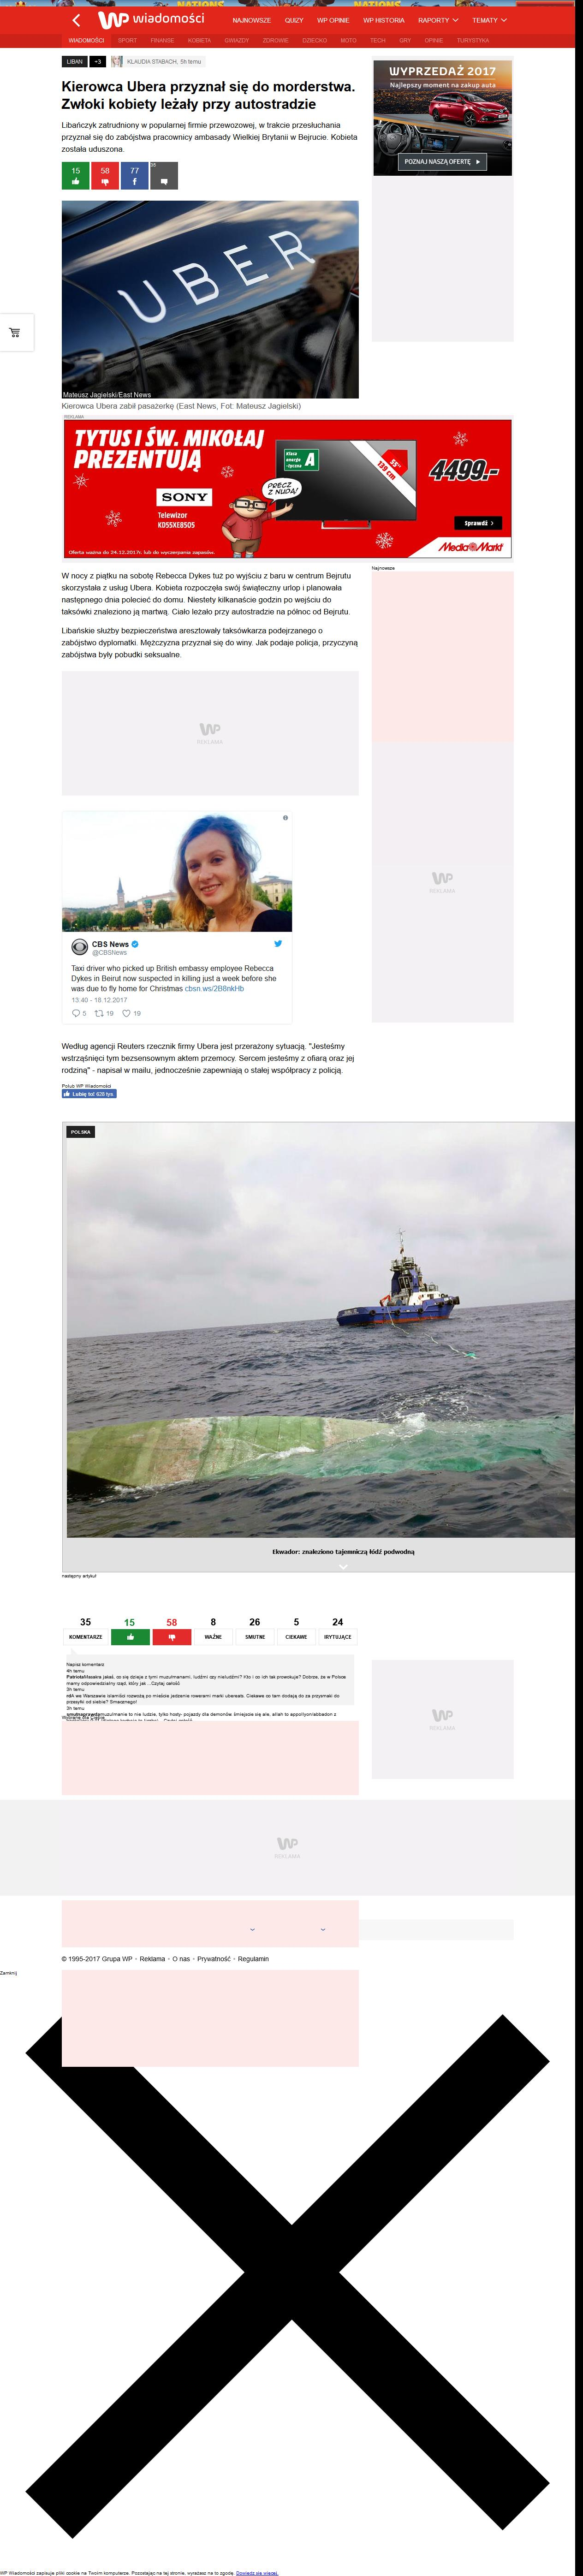title: (61, 80, 356, 110)
